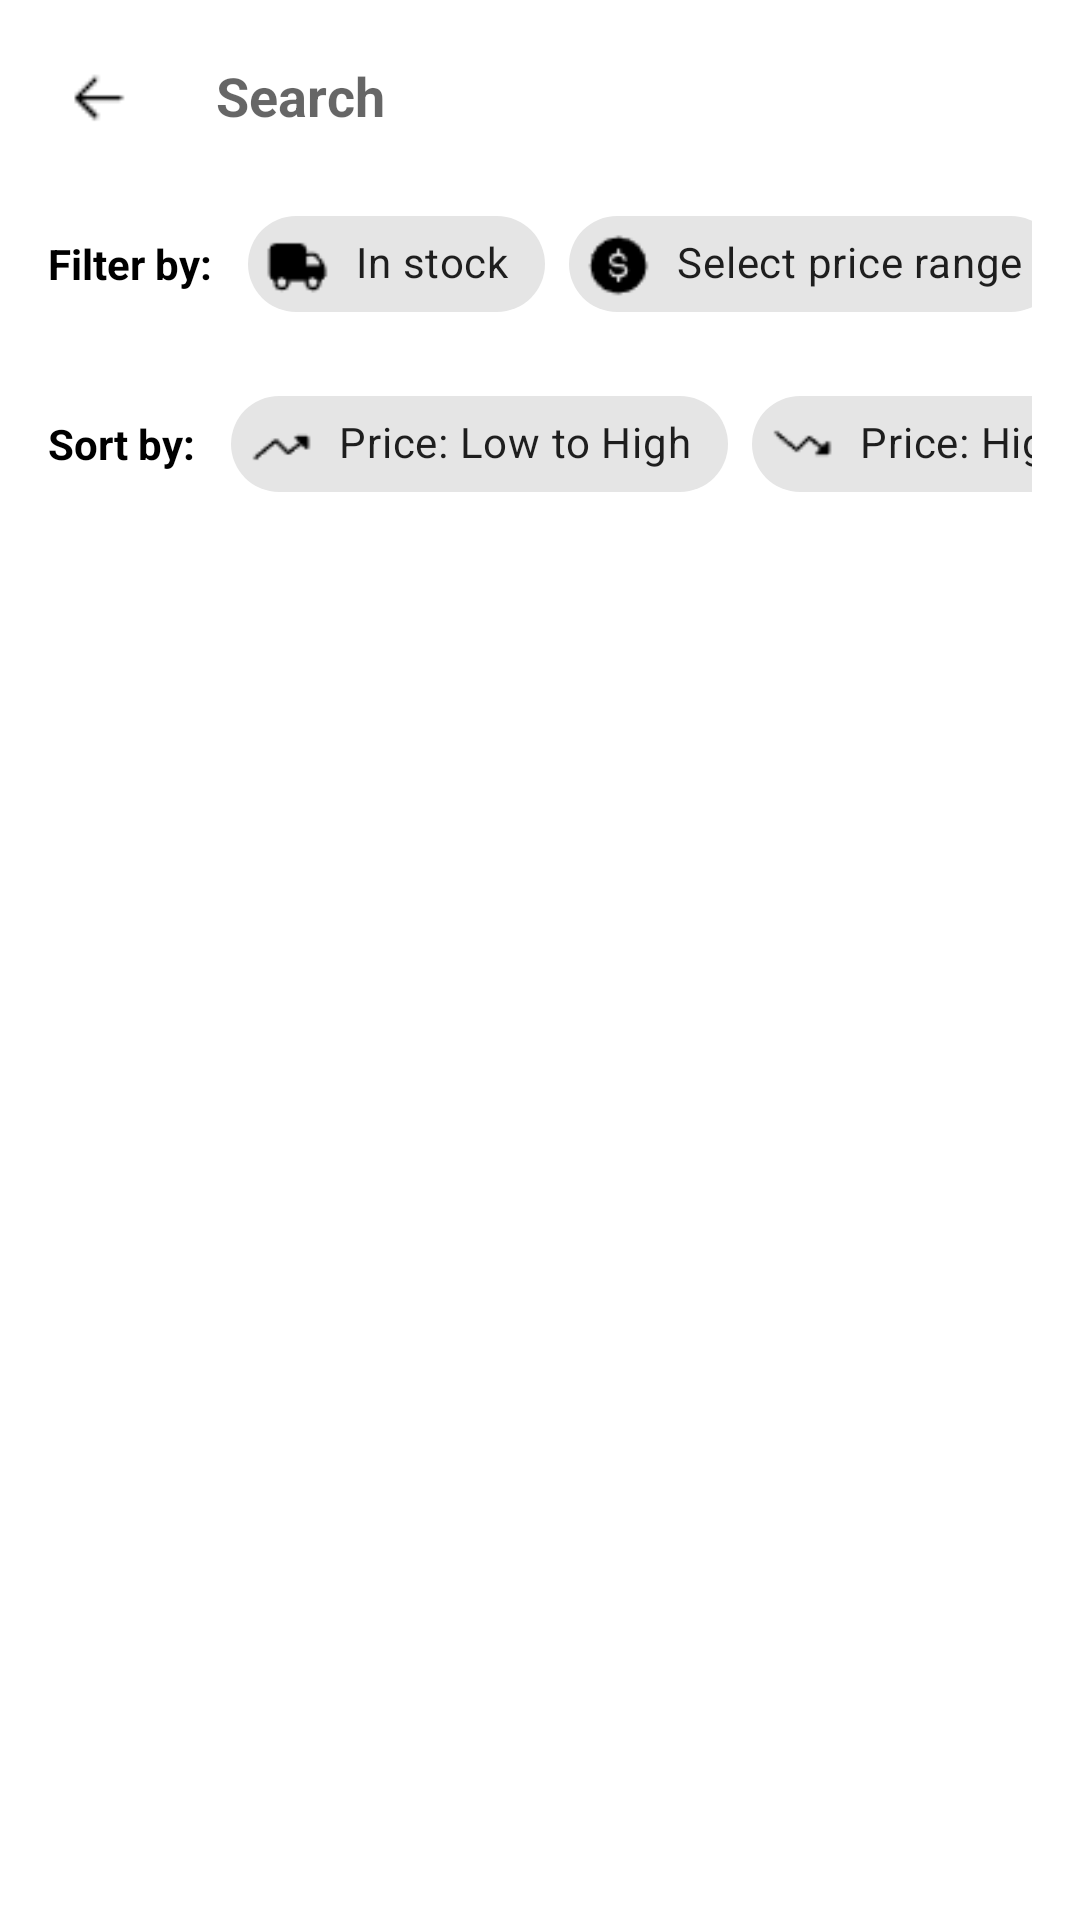

Screen size 1080w x 1920h. Icon name, then its center in pixels as (x=x, y=y):
arrow left stroke: (x=99, y=98)
